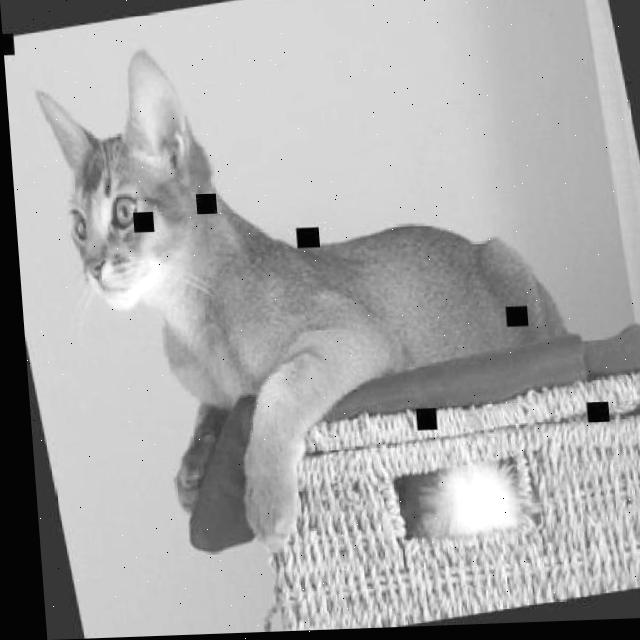Cat: (25, 0, 604, 574)
